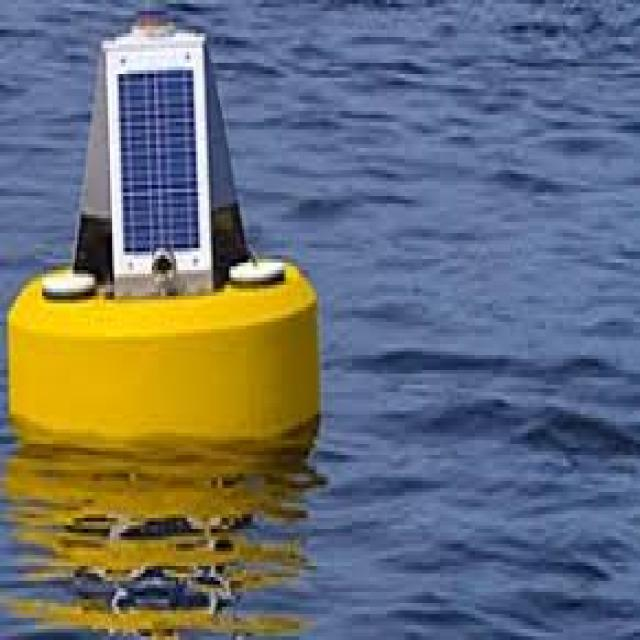buoy: (9, 4, 326, 470)
